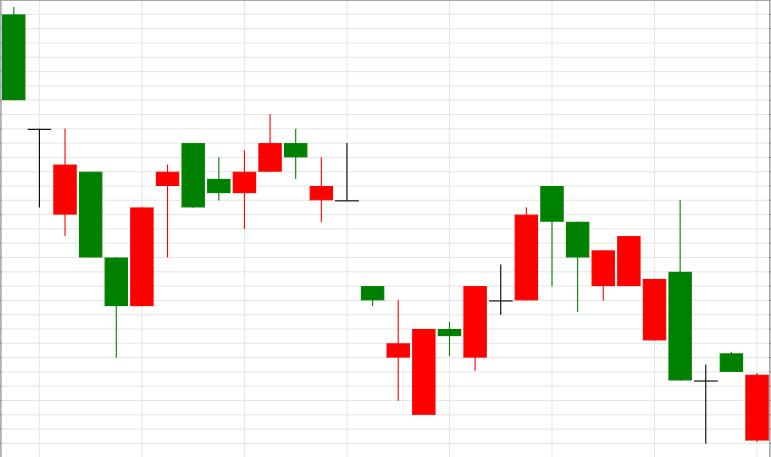hammer_rise: (2, 7, 128, 359)
hanging_man_fall: (387, 186, 564, 415)
